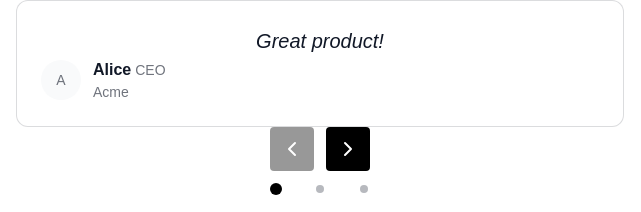
Carousel › arrow navigation › disables next button on the last slide when loop=false
# Click next twice to reach last slide (index 2)
Click the button named "Next slide": click(348, 148) [326, 126, 370, 170]
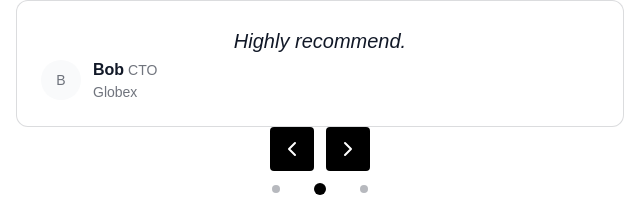
Click the button named "Next slide": click(348, 148) [326, 126, 370, 170]
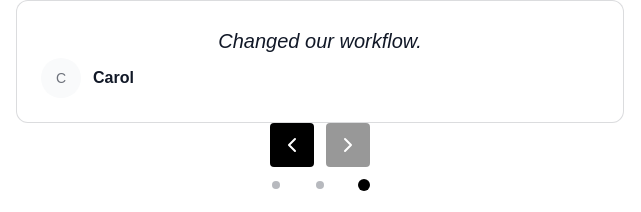
Result: the button named "Next slide" is disabled at [326, 122, 370, 166]
